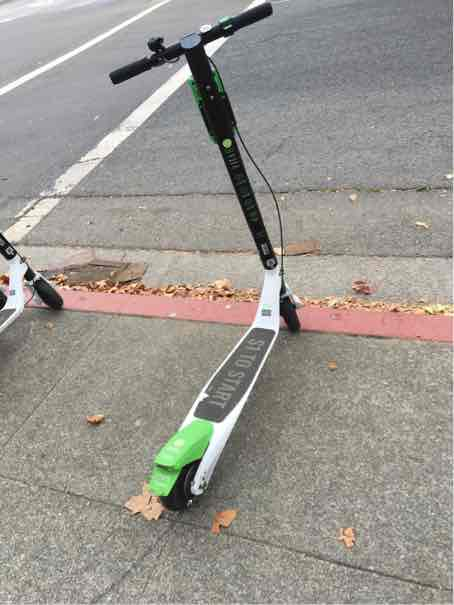scooter: (98, 1, 308, 517)
